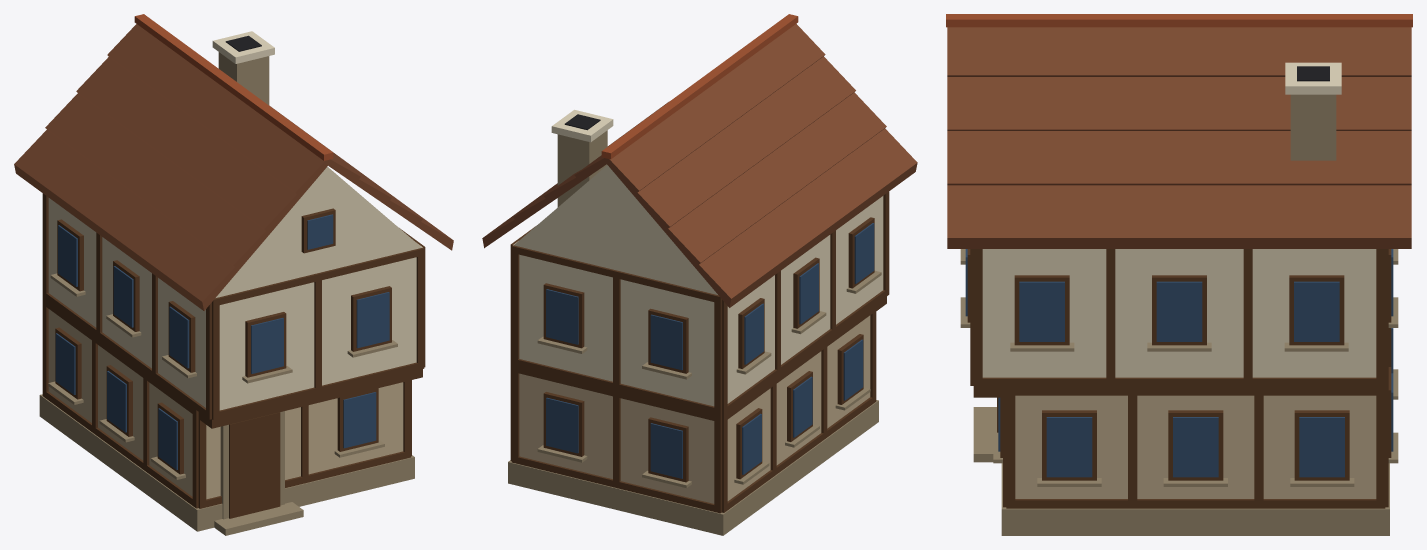
Rendered from House_03_NarrowSobrado.fbx.
3 renders of one model, left to right at view 1: azimuth 30°, elevation 25°; view 2: azimuth 150°, elevation 25°; view 3: azimuth 270°, elevation 25°, orthographic. The views are drawn at different scales.
Visible parts, largest first — view 1: House_03_NarrowSobrado; view 2: House_03_NarrowSobrado; view 3: House_03_NarrowSobrado.
Part boxes in pixels (x1=…): House_03_NarrowSobrado: x1=14, y1=14, x2=453, y2=535; House_03_NarrowSobrado: x1=482, y1=14, x2=917, y2=535; House_03_NarrowSobrado: x1=946, y1=14, x2=1412, y2=535.
Size of the model in its own units: 5.48 by 7.66 by 7.14.
